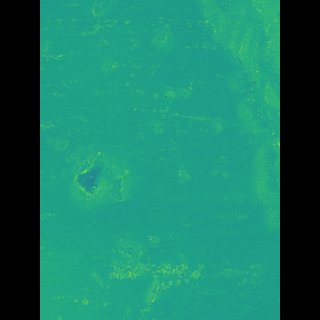Loch: (186, 0, 252, 234), (120, 230, 240, 311), (91, 148, 138, 215)
